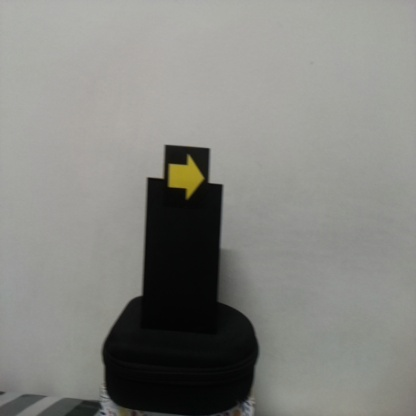id_3: (164, 147, 209, 205)
